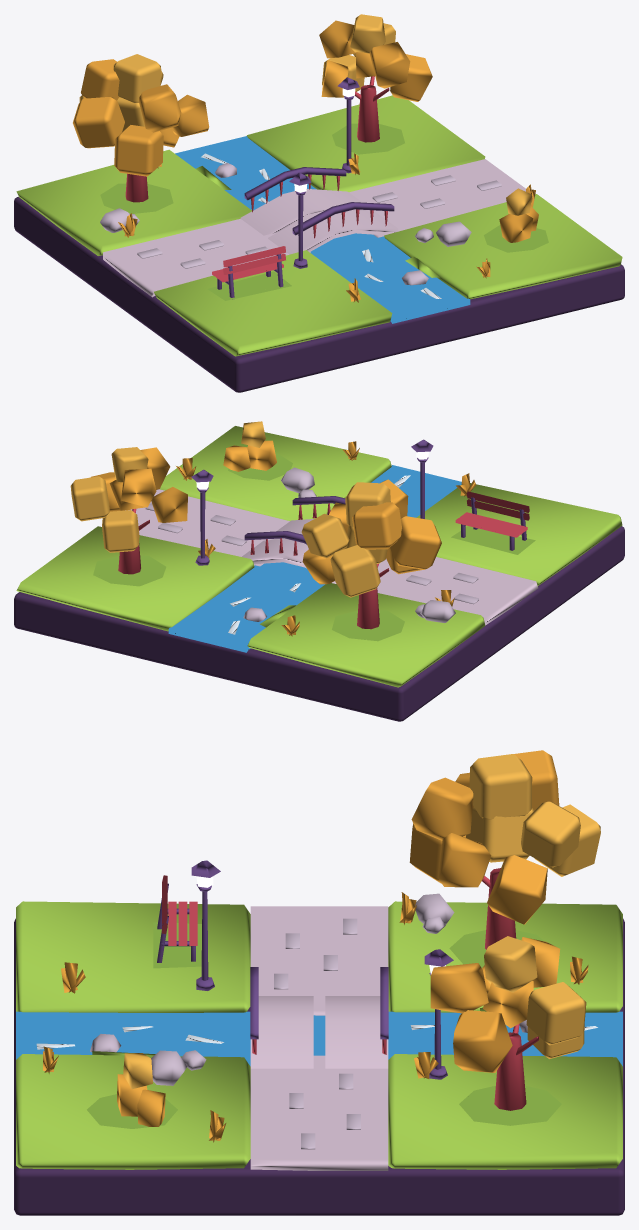
The model's file is park_test.glb.
3 renders of one model, top to bottom at view 1: azimuth 30°, elevation 25°; view 2: azimuth 150°, elevation 25°; view 3: azimuth 270°, elevation 25°, orthographic. The views are drawn at different scales.
Visible parts, largest first — view 1: Park_Grass, Park_Base, Park_Paving, Park_Leaf, Park_Water, Park_GrassShadow, Park_Leaf2, Park_Red, Park_Purple, Park_Rock; view 2: Park_Grass, Park_Base, Park_Leaf, Park_Paving, Park_Leaf2, Park_Water, Park_GrassShadow, Park_Red, Park_Rock, Park_Purple; view 3: Park_Grass, Park_Paving, Park_Base, Park_Leaf, Park_Leaf2, Park_Water, Park_GrassShadow, Park_Rock, Park_Red, Park_Purple.
Part boxes in pixels (<box>): Park_Grass: <box>16,95,622,356</box>; Park_Base: <box>14,196,624,392</box>; Park_Paving: <box>103,159,525,297</box>; Park_Leaf: <box>73,20,538,302</box>; Park_Water: <box>175,136,470,323</box>; Park_GrassShadow: <box>100,123,548,300</box>; Park_Leaf2: <box>79,14,531,215</box>; Park_Red: <box>125,76,389,282</box>; Park_Purple: <box>217,77,394,299</box>; Park_Rock: <box>100,163,501,285</box>; Park_Grass: <box>16,426,622,687</box>; Park_Base: <box>14,526,624,721</box>; Park_Leaf: <box>90,440,476,636</box>; Park_Paving: <box>125,489,538,625</box>; Park_Leaf2: <box>70,421,390,597</box>; Park_Water: <box>168,465,461,652</box>; Park_GrassShadow: <box>93,453,535,641</box>; Park_Red: <box>118,491,529,629</box>; Park_Rock: <box>145,467,478,622</box>; Park_Purple: <box>191,439,526,565</box>; Park_Grass: <box>16,901,622,1169</box>; Park_Paving: <box>250,906,388,1170</box>; Park_Base: <box>14,918,624,1215</box>; Park_Leaf: <box>43,750,588,1142</box>; Park_Leaf2: <box>123,754,600,1089</box>; Park_Water: <box>16,1011,622,1066</box>; Park_GrassShadow: <box>87,922,561,1128</box>; Park_Rock: <box>90,893,527,1149</box>; Park_Red: <box>162,868,538,1110</box>; Park_Purple: <box>157,860,453,1079</box>.
Size of the model in its own units: 3.2 by 1.44 by 3.2.
